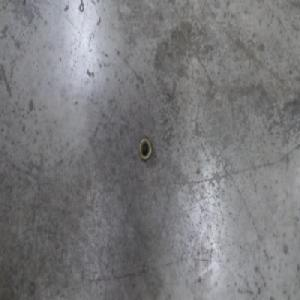Nut: (138, 135, 152, 163)
